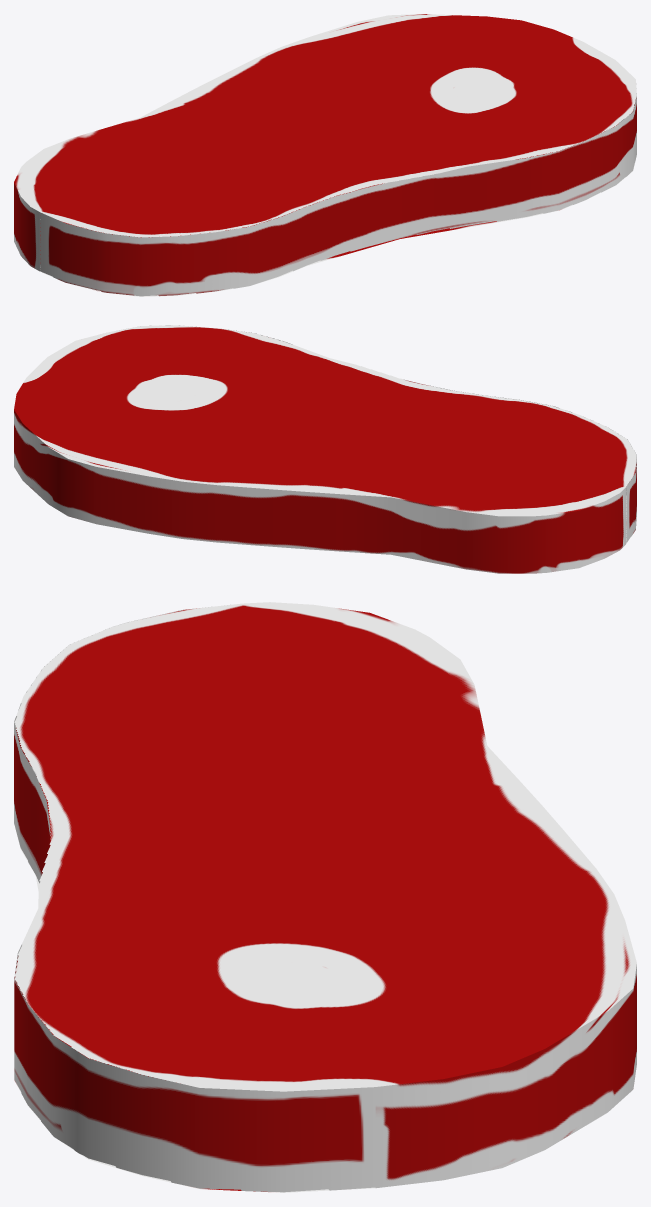
The model's file is pork_fbx.FBX.
3 views of the same model, one above another, from view 1: azimuth 30°, elevation 25°; view 2: azimuth 150°, elevation 25°; view 3: azimuth 270°, elevation 25° (orthographic). The views are drawn at different scales.
Visible parts, largest first — view 1: pork; view 2: pork; view 3: pork.
Part boxes in pixels (x1,y1,x2,y2): pork: (14, 14, 636, 296); pork: (14, 325, 636, 573); pork: (14, 602, 636, 1192).
Size of the model in its own units: 28.11 by 2.71 by 15.12.
Materials: 1 (1 with a texture image).
